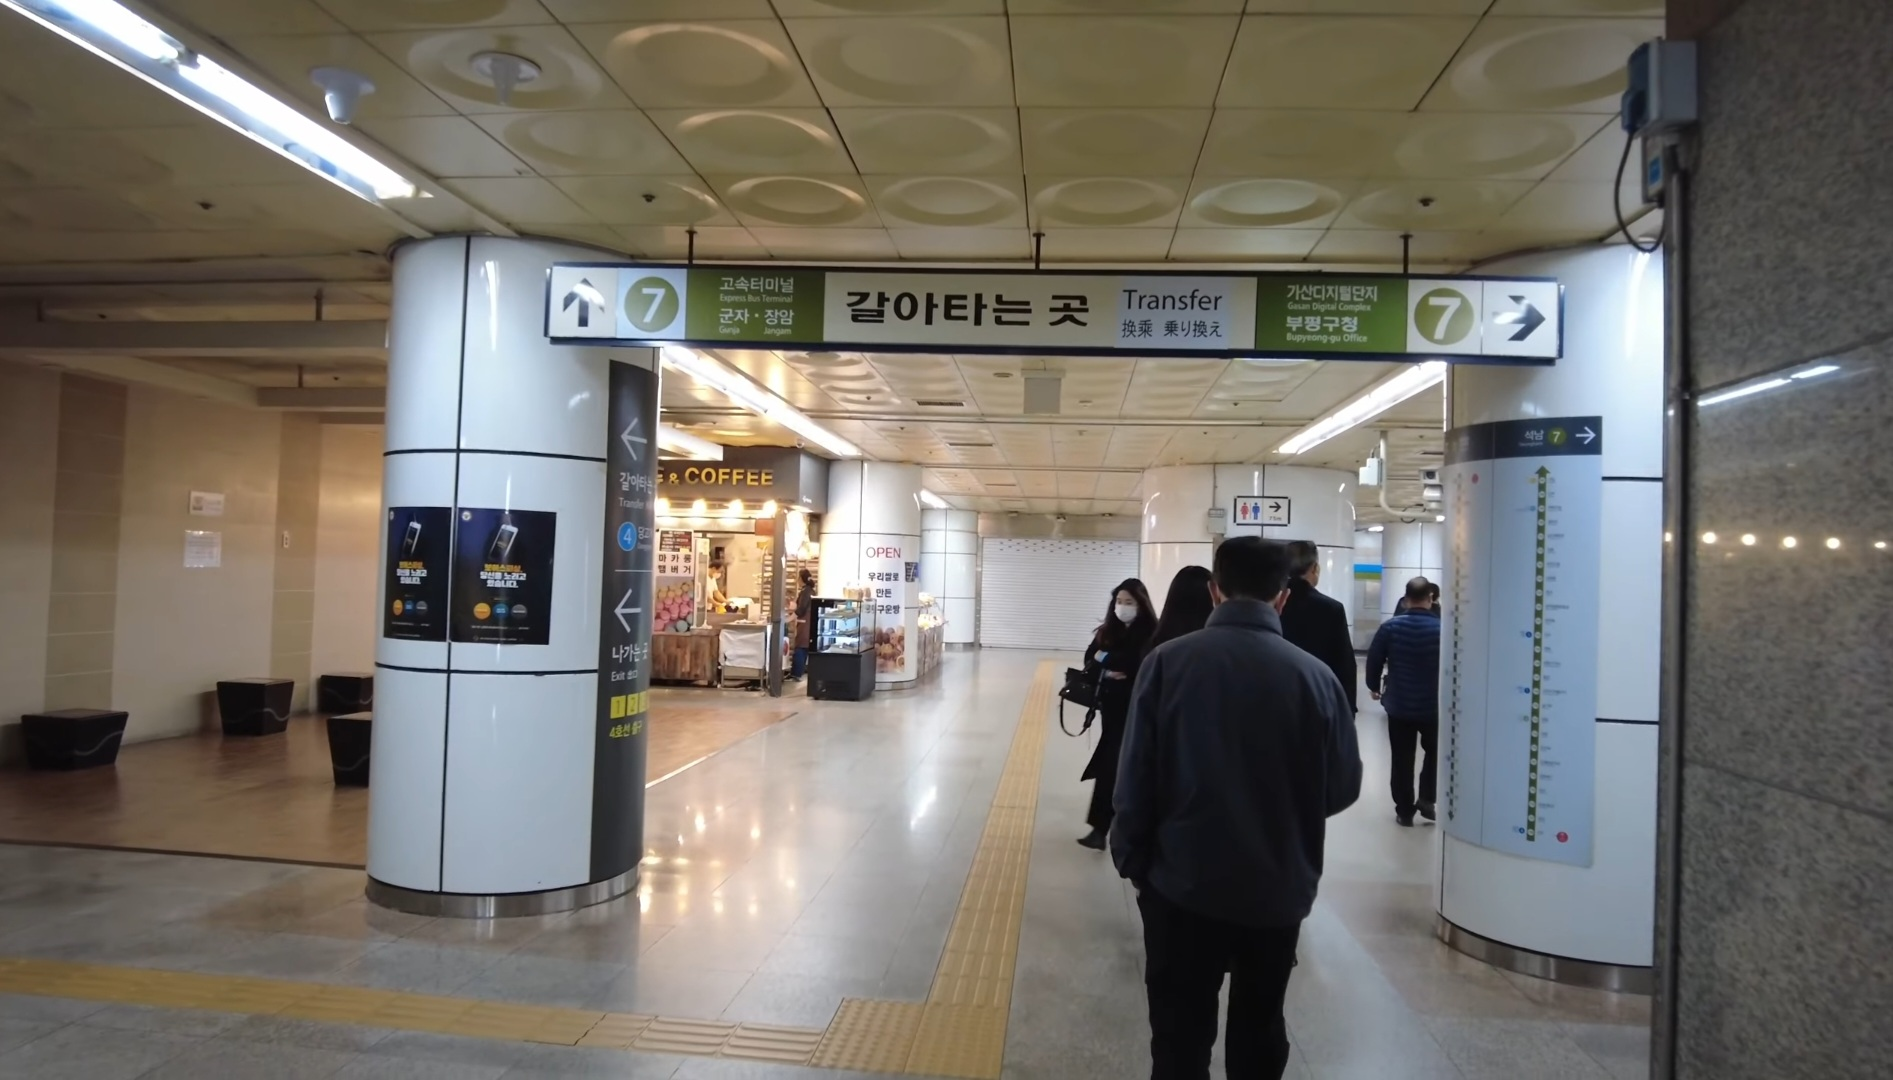signBoard: (529, 246, 1569, 373)
